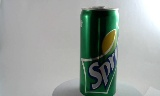sprite: (73, 5, 112, 95)
